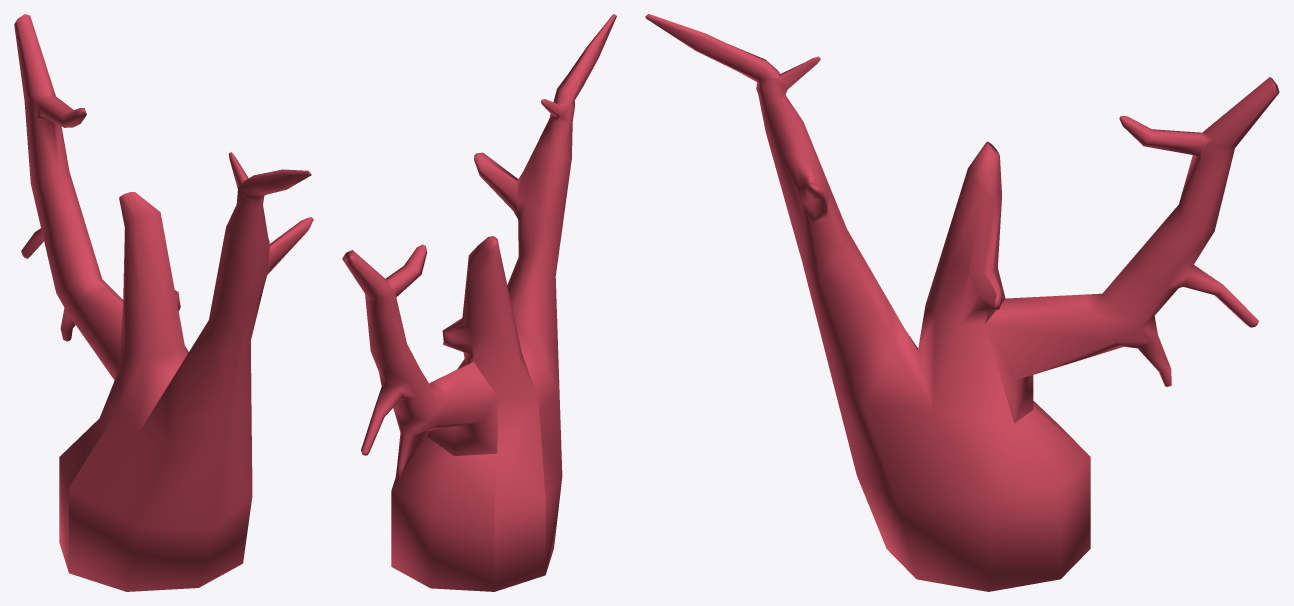
Rendered from sango.fbx.
3 views of the same model, side by side, from view 1: azimuth 30°, elevation 25°; view 2: azimuth 150°, elevation 25°; view 3: azimuth 270°, elevation 25° (orthographic). The views are drawn at different scales.
Visible parts, largest first — view 1: sango:pCylinder1; view 2: sango:pCylinder1; view 3: sango:pCylinder1.
Boxes of the visible parts, x1,y1,x2,y2 form: sango:pCylinder1: (14,14,313,591); sango:pCylinder1: (342,14,616,591); sango:pCylinder1: (645,14,1279,591).
Bounding box in the file's own units: 1.1 × 3.18 × 3.42.
